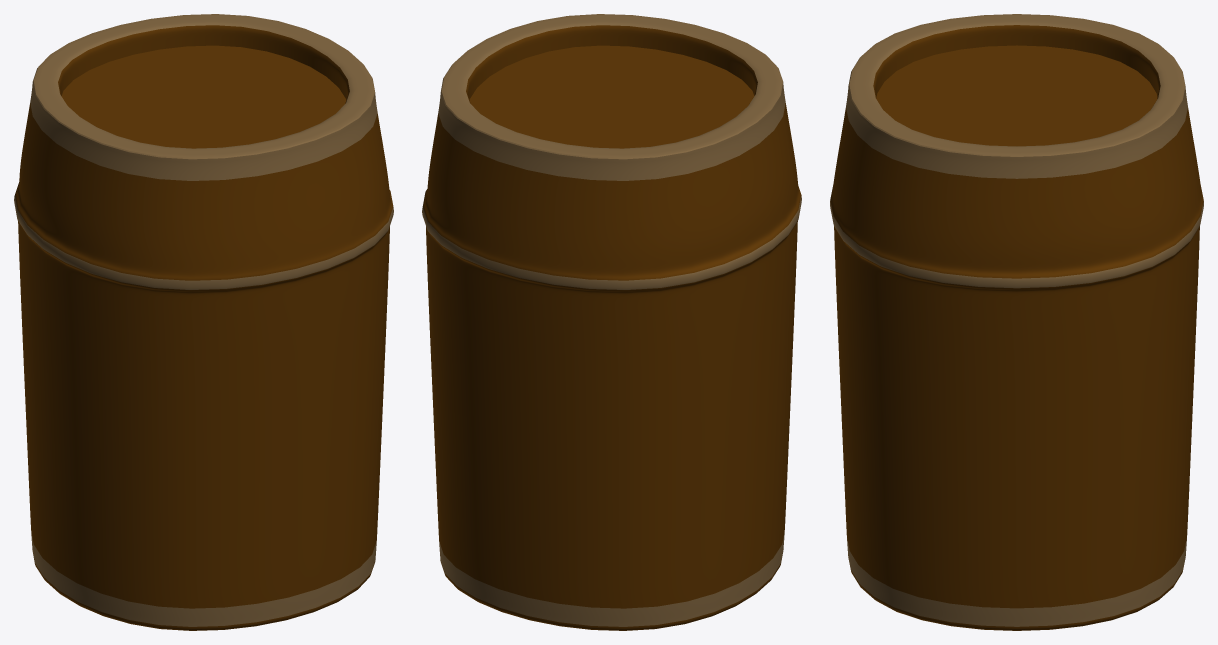
File: barrel.glb
The picture shows the model from 3 angles, left to right: view 1: azimuth 30°, elevation 25°; view 2: azimuth 150°, elevation 25°; view 3: azimuth 270°, elevation 25°; orthographic projection.
Parts seen in each view (by area): view 1: barrel; view 2: barrel; view 3: barrel.
Part boxes in pixels (x1,y1,x2,y2): barrel: (14, 14, 393, 630); barrel: (422, 14, 801, 630); barrel: (830, 14, 1203, 630).
Size of the model in its own units: 1.35 by 1.93 by 1.35.
